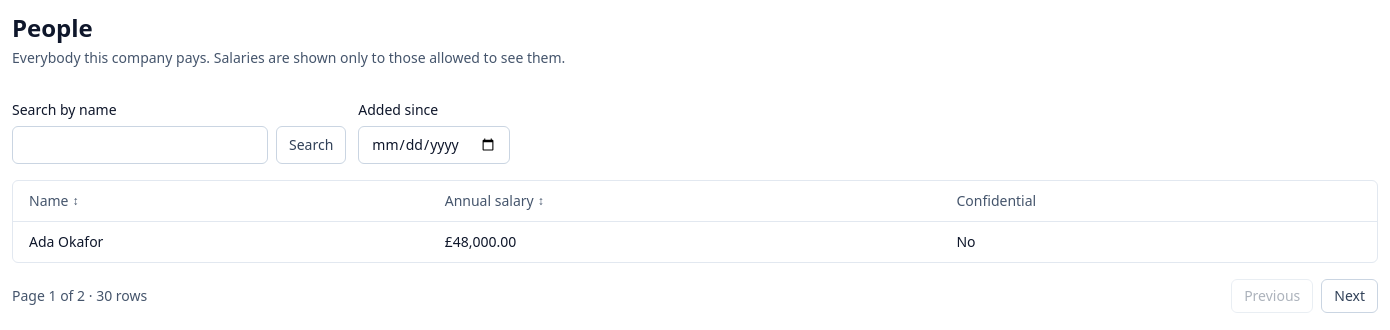
Test: EmployeesPage › pages through the list
expect the text "Ada Okafor" is shown: met, box [13,222,429,262]
expect the text "Page 1 of 2 · 30 rows" is shown: met, box [12,286,147,306]
Click the button "Next".
click(1350, 296)  # box [1321,279,1378,313]
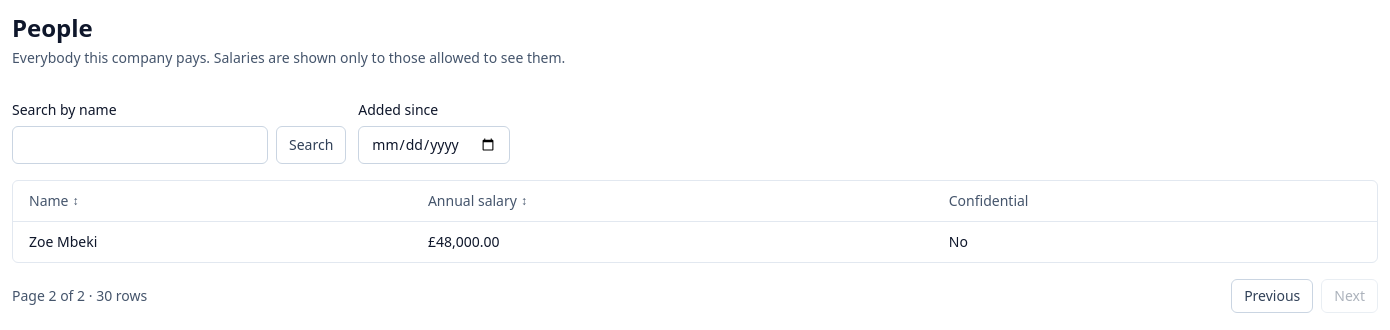
expect the text "Zoe Mbeki" is shown: met, box [13,222,412,262]
expect the button "Next" is disabled: met, box [1321,279,1378,313]
